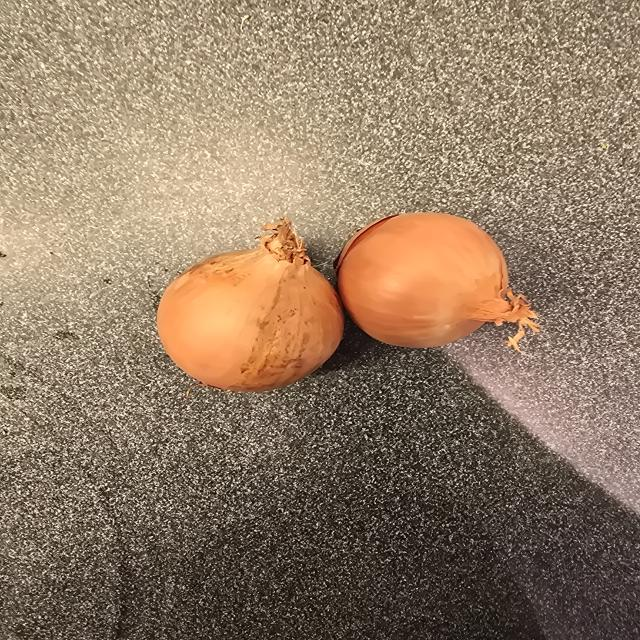Onion: (157, 219, 344, 392), (337, 213, 536, 348)
